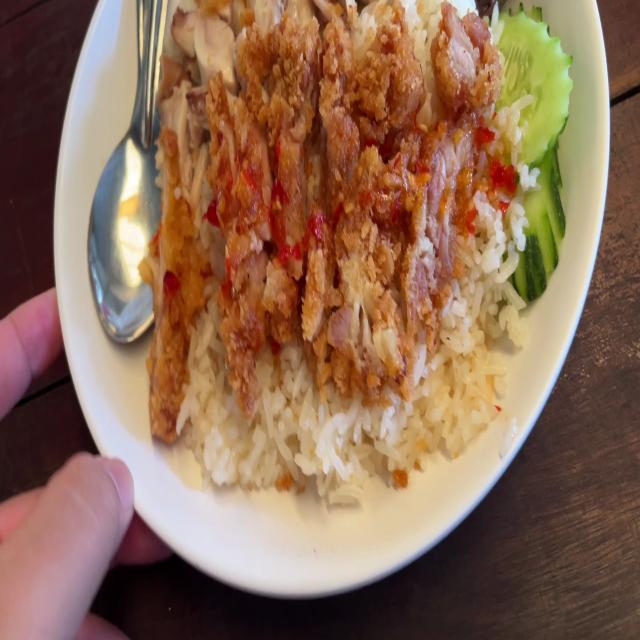chicken_rice: (147, 0, 574, 504)
cucumber: (489, 11, 559, 282)
fried_chicken: (155, 28, 478, 431)
